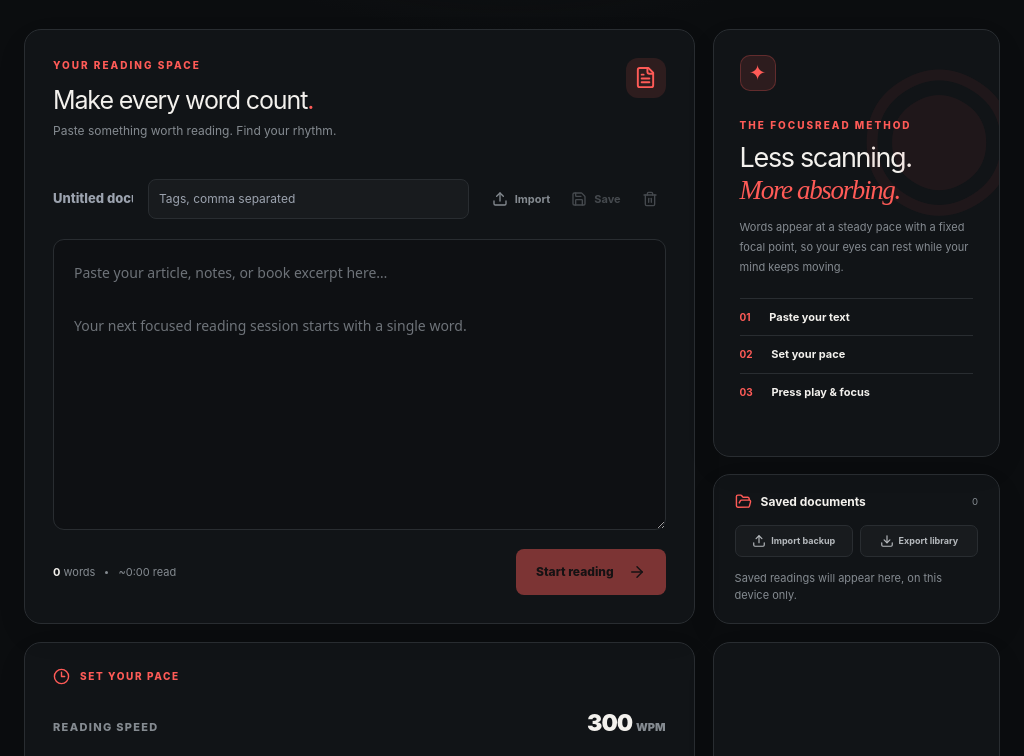
opens the shortcut list with ? while reading and closes it with Escape
The width and height of the screenshot is (1024, 756).
(page scrolled)
Replace the text in the text box named "Reading text" with "one two three four five six" at x=359, y=385, box left=53, top=239, right=666, bottom=530
(page scrolled)
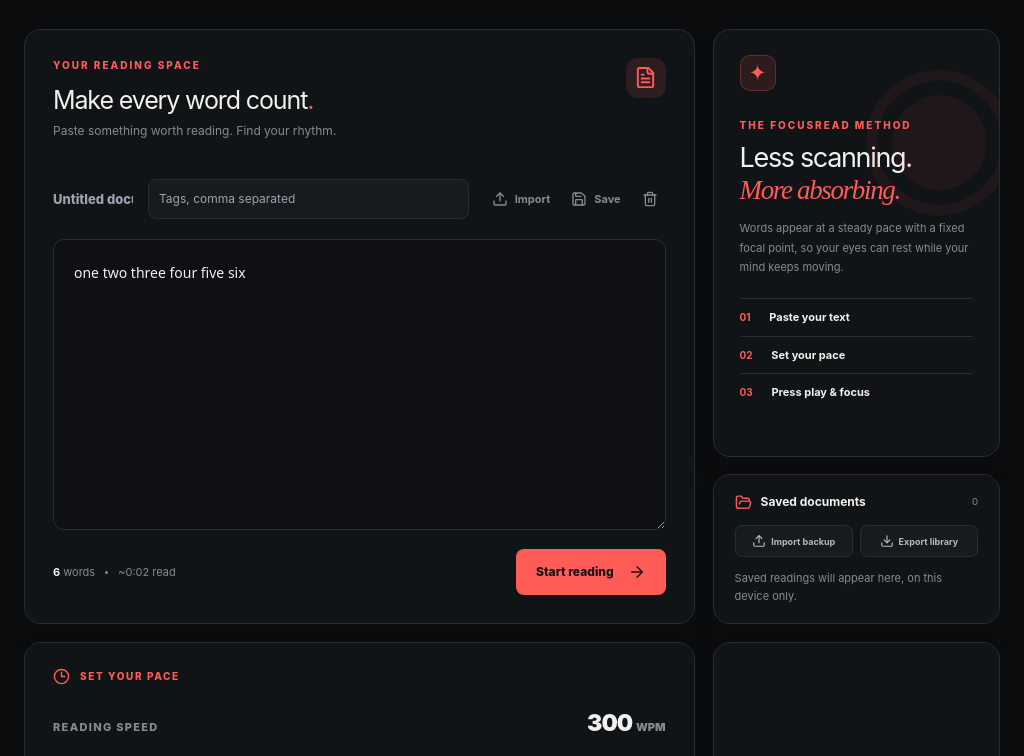
Click the button "Start reading" at x=591, y=572, box left=516, top=550, right=666, bottom=596
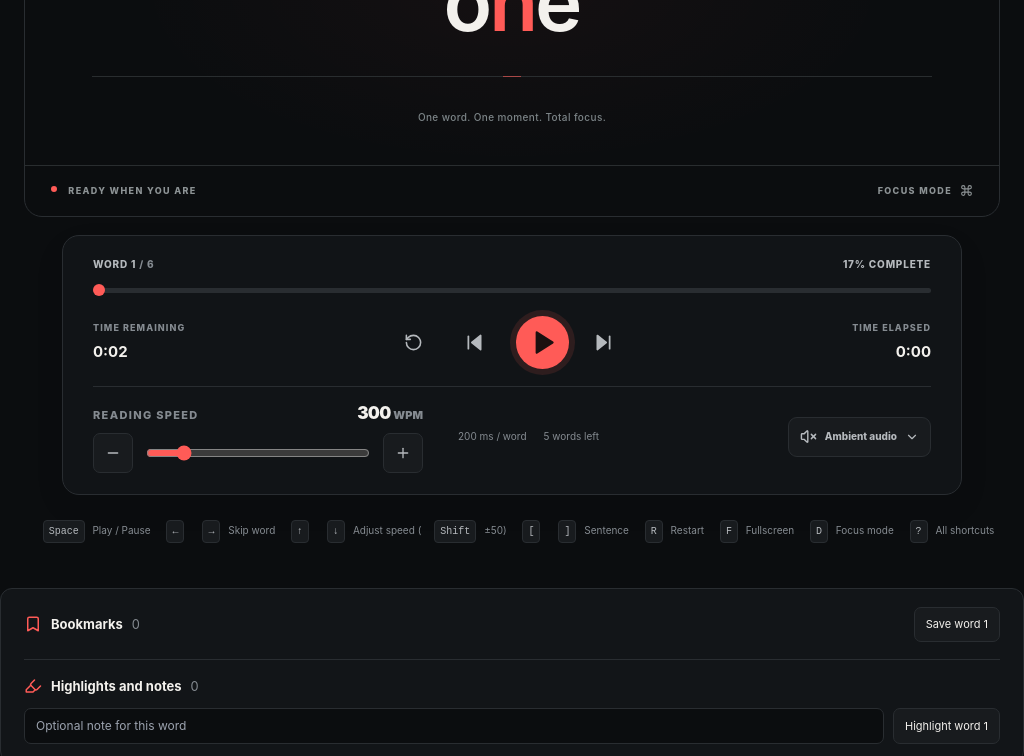
Expected: the button named "Play" is shown, left=516, top=316, right=568, bottom=368
Press ?
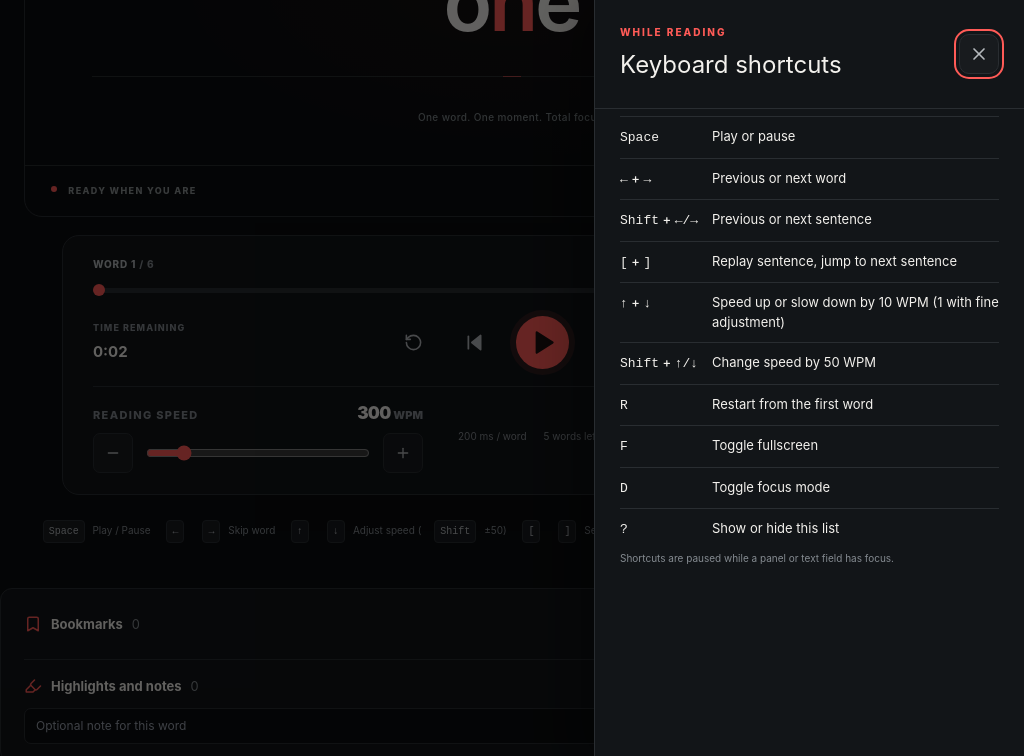
Expected: the dialog "Keyboard shortcuts" shows "Replay sentence", left=712, top=252, right=957, bottom=268
Press Escape
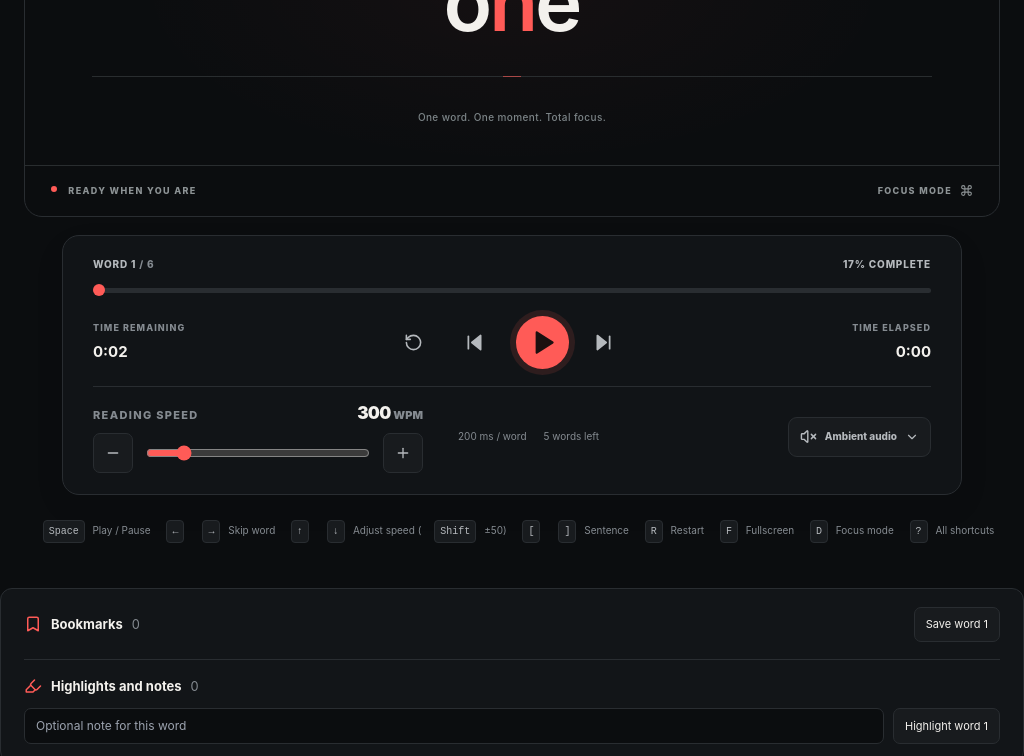
Expected: the heading "Keyboard shortcuts" is gone
